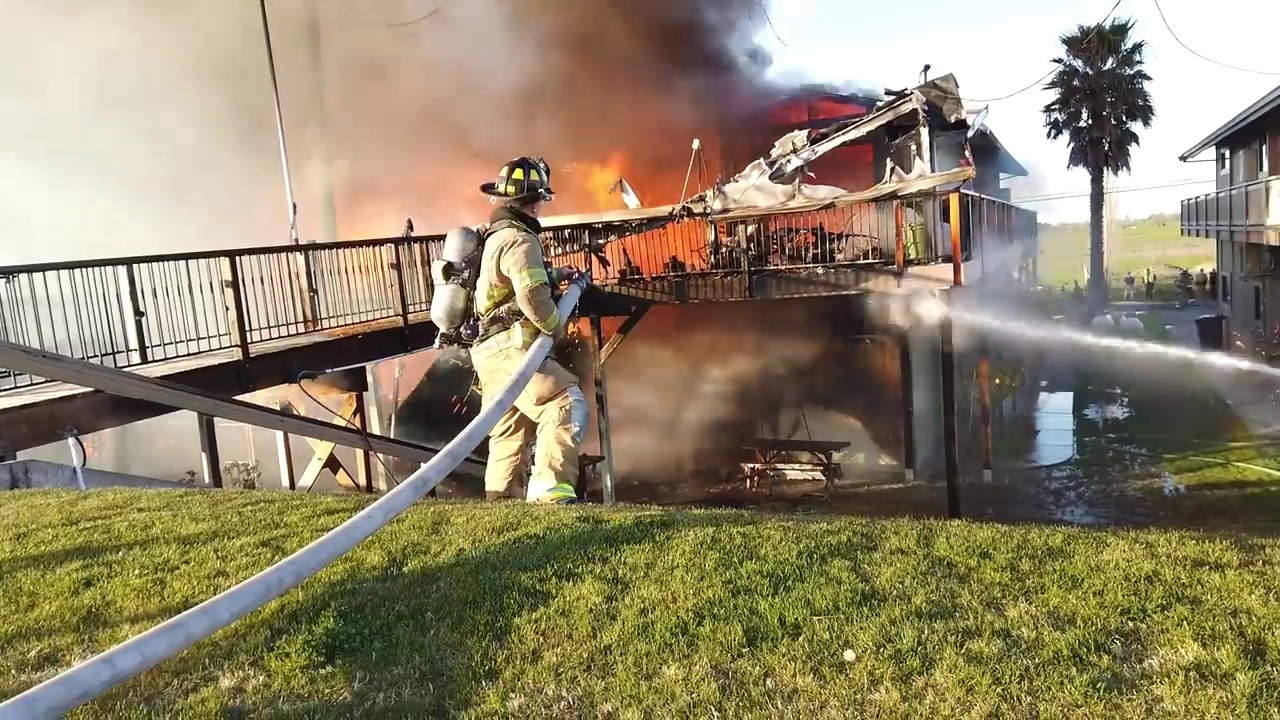fire: (553, 146, 679, 216), (782, 138, 872, 189), (748, 87, 871, 122)
smoke: (4, 4, 522, 221), (613, 313, 895, 496), (524, 1, 791, 138), (86, 426, 205, 483), (216, 419, 278, 484), (271, 367, 337, 404)
